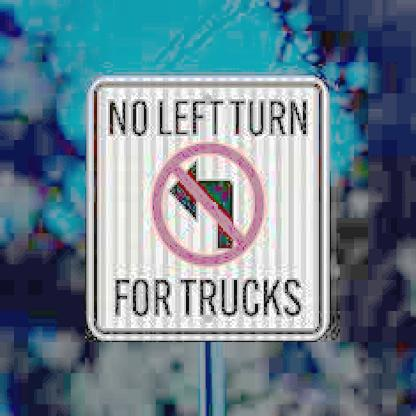No left turn: (142, 140, 266, 270)
